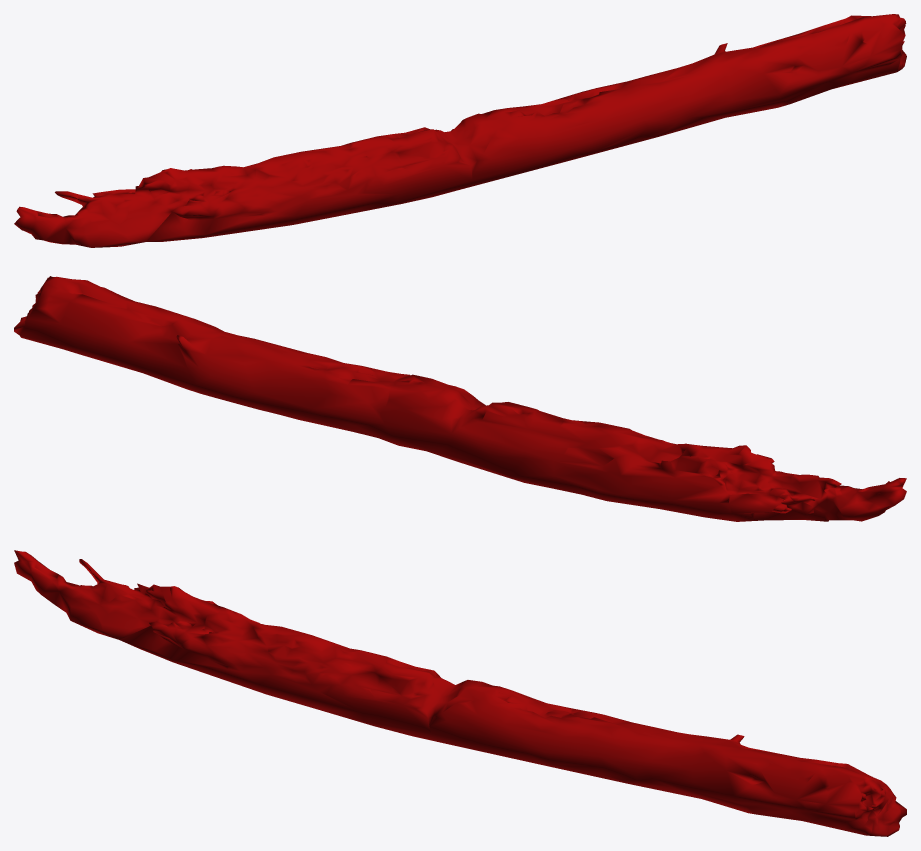
File: log_scan.glb
3 views of the same model, one above another, from view 1: azimuth 30°, elevation 25°; view 2: azimuth 150°, elevation 25°; view 3: azimuth 330°, elevation 25° (orthographic).
Parts seen in each view (by area): view 1: LOD0; view 2: LOD0; view 3: LOD0.
Boxes of the visible parts, left/top/right/bottom form: LOD0: left=14, top=14, right=906, bottom=247; LOD0: left=14, top=276, right=906, bottom=521; LOD0: left=14, top=550, right=906, bottom=836.
Size of what is drawn, in the model's own units: 3.05 by 0.2871 by 0.2773.
